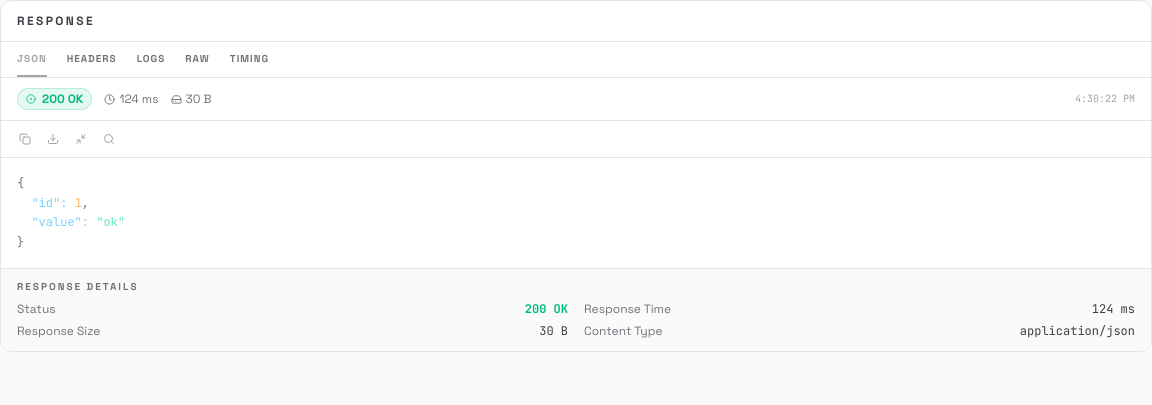
Test: ResponsePanel › opens the search box and reports a match count
Click the button titled "Search" at (109, 139), box 97,127 -> 121,151
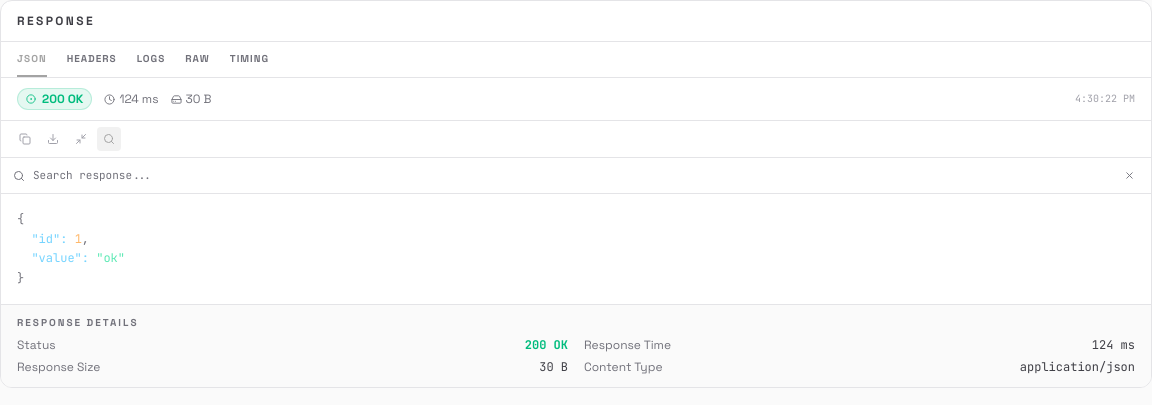
Type "value" into the field with placeholder "Search response..." at (568, 176), box 33,167 -> 1104,184
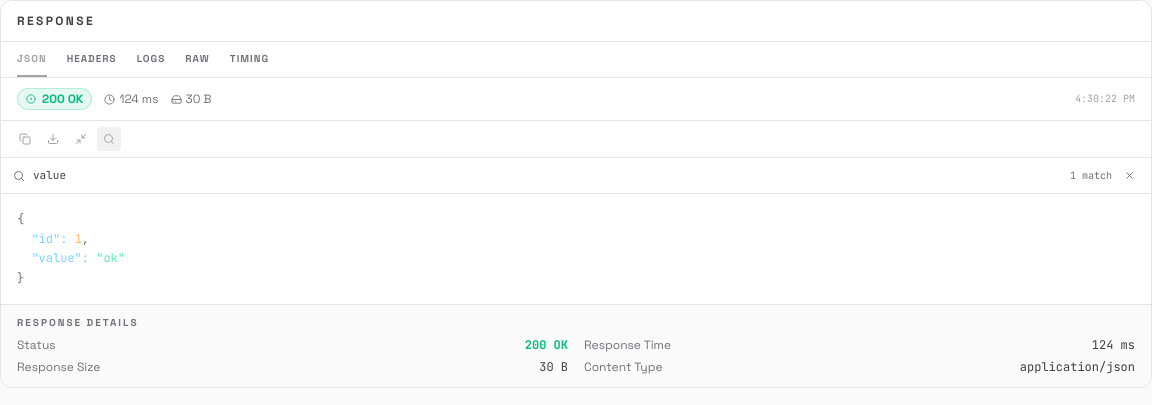
Result: the text "1 match" is shown at 1070,168 -> 1112,183
